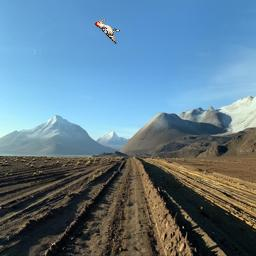Woodpecker: (94, 18, 120, 44)
